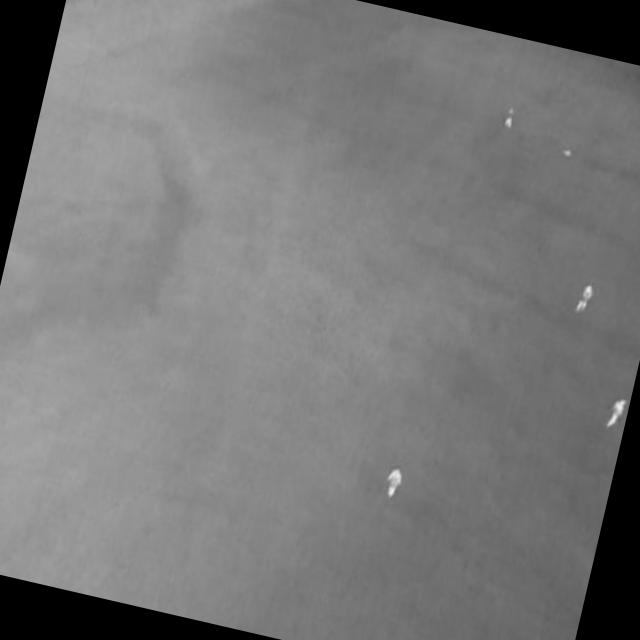person: (604, 392, 629, 432), (383, 460, 407, 501), (574, 283, 594, 316), (503, 104, 516, 130)
